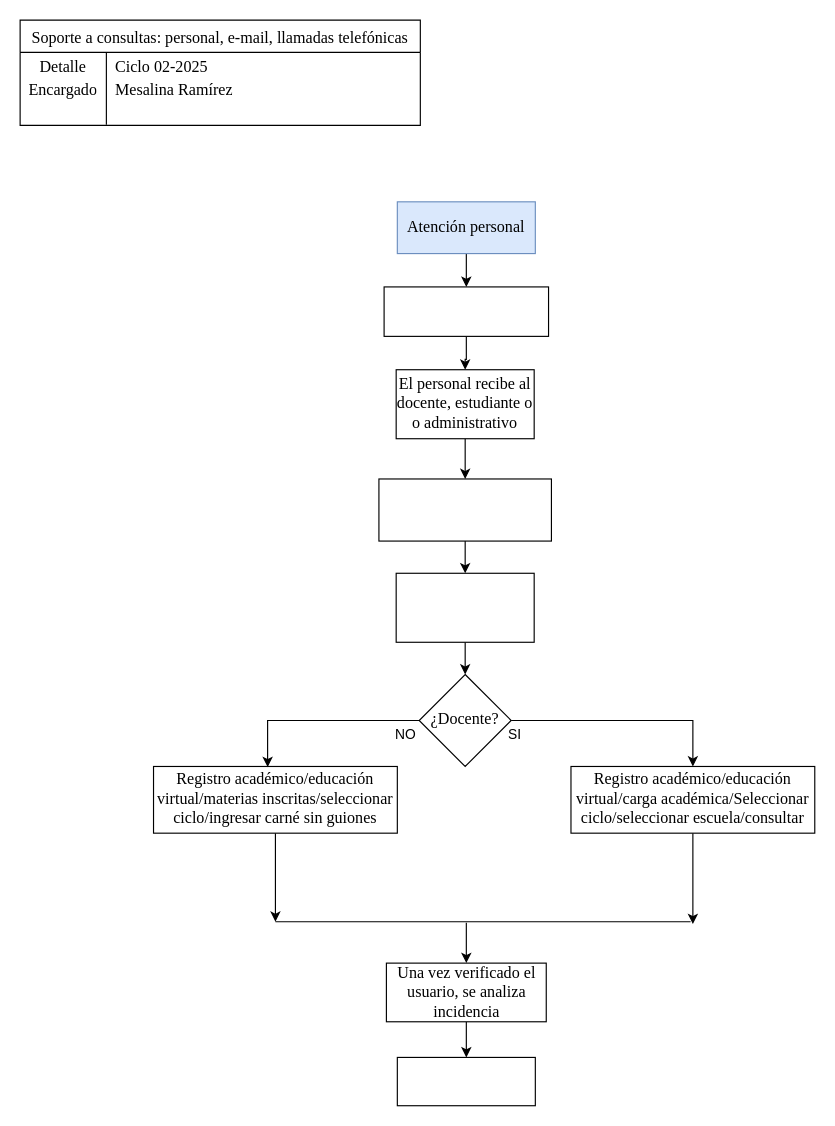
This 835x1126 diagram has some shape labels left out. Each missing label, with the centre of its shape:
El personal inicia sesión con credenciales de administrador: [464,509]
El personal solventa la situación: [465,1081]
El usuario llega a las oficionas de UtecVirtual: [466,311]
Verifica la identidad del usuario (carné o usuario docente): [464,607]
